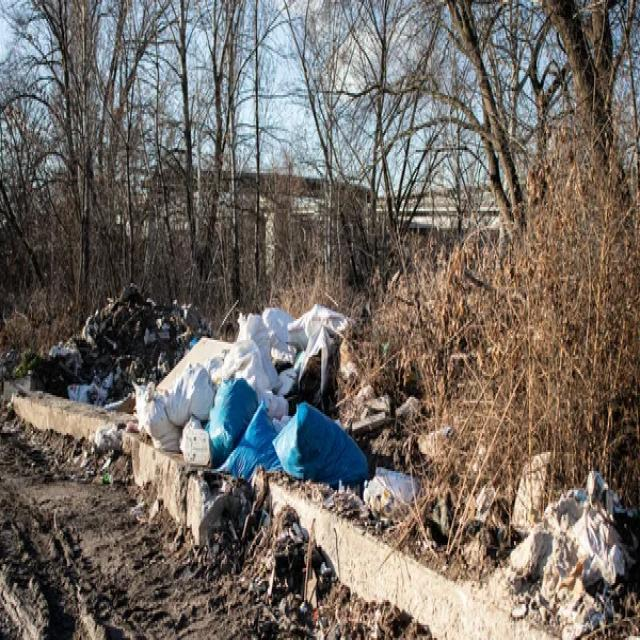high trash: (136, 305, 369, 486), (32, 285, 206, 404)
